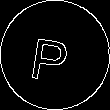P_N: (33, 27, 77, 83)
